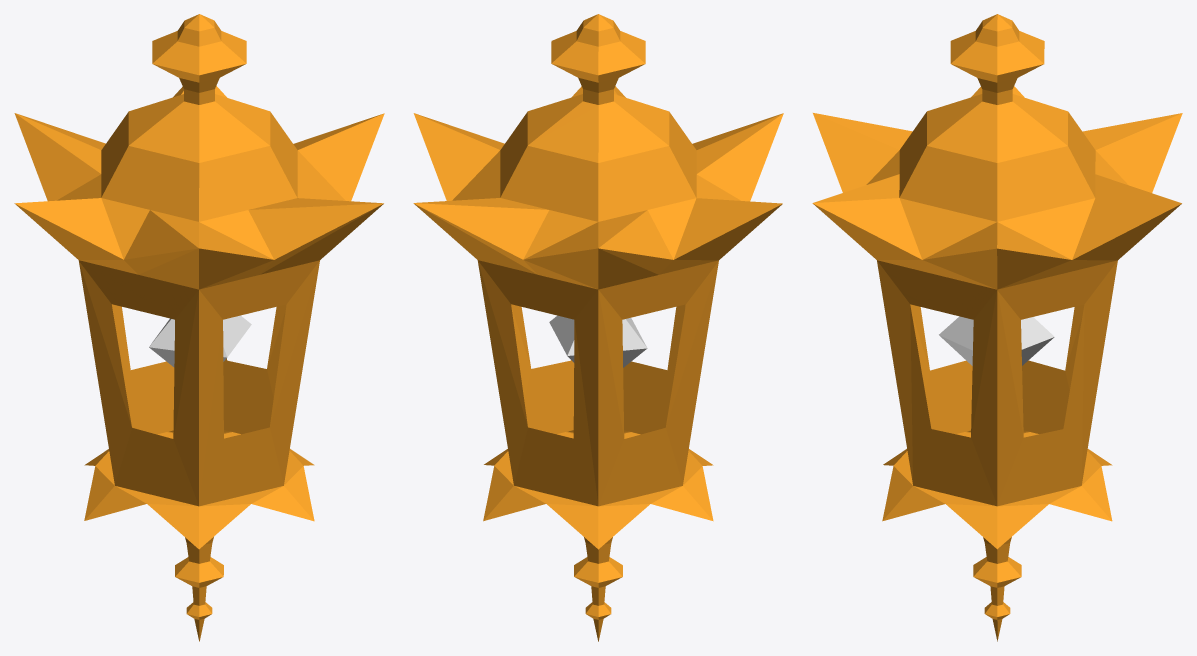
File: 1stPass_Lantern.FBX
3 renders of one model, left to right at view 1: azimuth 30°, elevation 25°; view 2: azimuth 150°, elevation 25°; view 3: azimuth 270°, elevation 25°, orthographic.
Parts seen in each view (by area): view 1: 1stPass_Lantern, LightBulb; view 2: 1stPass_Lantern, LightBulb; view 3: 1stPass_Lantern, LightBulb.
Part boxes in pixels (x1,y1,x2,y2): 1stPass_Lantern: (14,14,384,641); LightBulb: (149,315,251,367); 1stPass_Lantern: (413,14,783,641); LightBulb: (549,315,647,367); 1stPass_Lantern: (812,14,1182,641); LightBulb: (939,316,1054,365).
Bounding box in the file's own units: 5.99 × 9.7 × 5.19.
